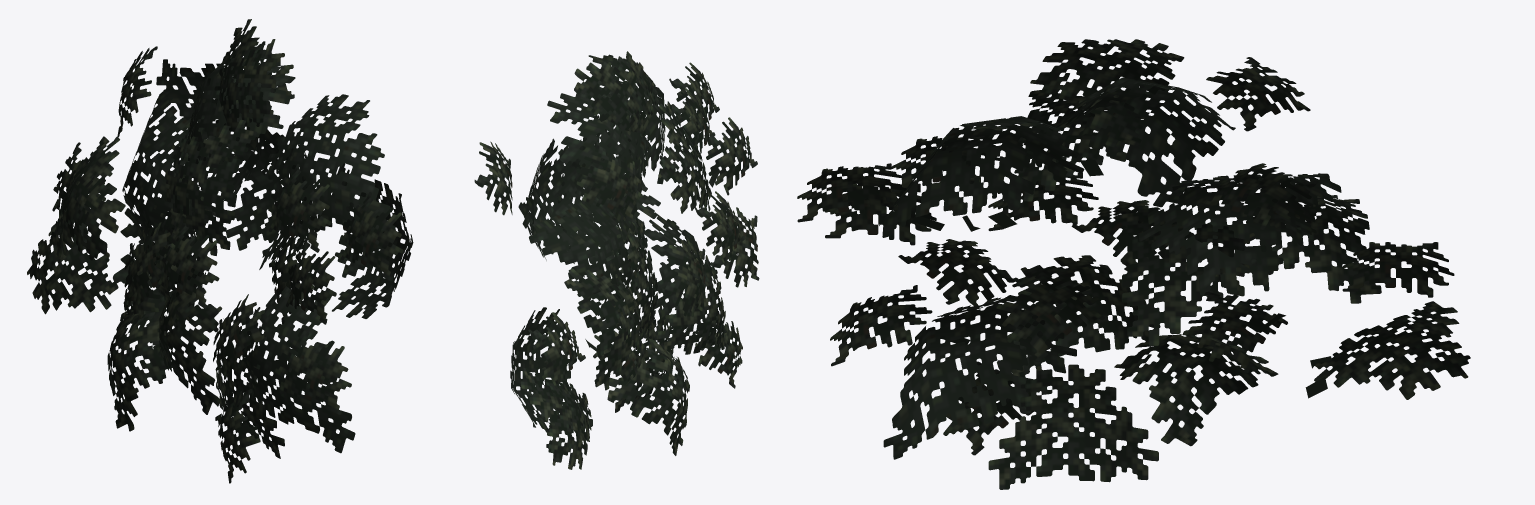
File: EnvFldMD_Tree_G_Mangrove_Leaf_B.FBX
The picture shows the model from 3 angles, left to right: view 1: azimuth 30°, elevation 25°; view 2: azimuth 150°, elevation 25°; view 3: azimuth 270°, elevation 25°; orthographic projection. The views are drawn at different scales.
Parts seen in each view (by area): view 1: EnvFldMD_Tree_G_Mangrove_Leaf_B; view 2: EnvFldMD_Tree_G_Mangrove_Leaf_B; view 3: EnvFldMD_Tree_G_Mangrove_Leaf_B.
Boxes of the visible parts, x1,y1,x2,y2 form: EnvFldMD_Tree_G_Mangrove_Leaf_B: (27, 19, 413, 483); EnvFldMD_Tree_G_Mangrove_Leaf_B: (474, 51, 759, 469); EnvFldMD_Tree_G_Mangrove_Leaf_B: (797, 39, 1470, 489).
Size of the model in its own units: 299 by 543 by 685.
Materials: 1 (1 with a texture image).
